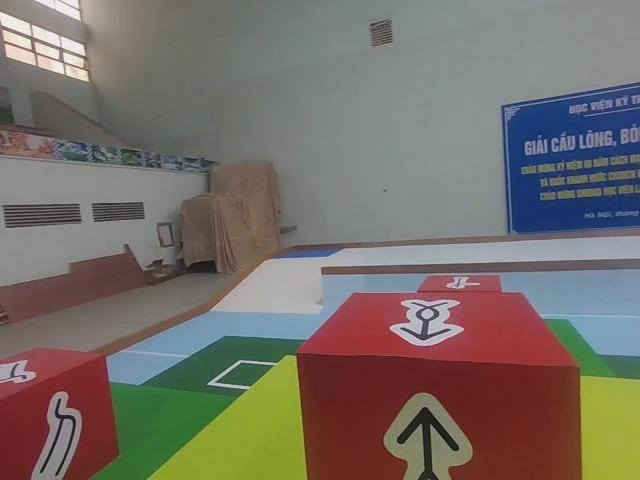R2 Real: (296, 291, 582, 480), (0, 343, 121, 480)
